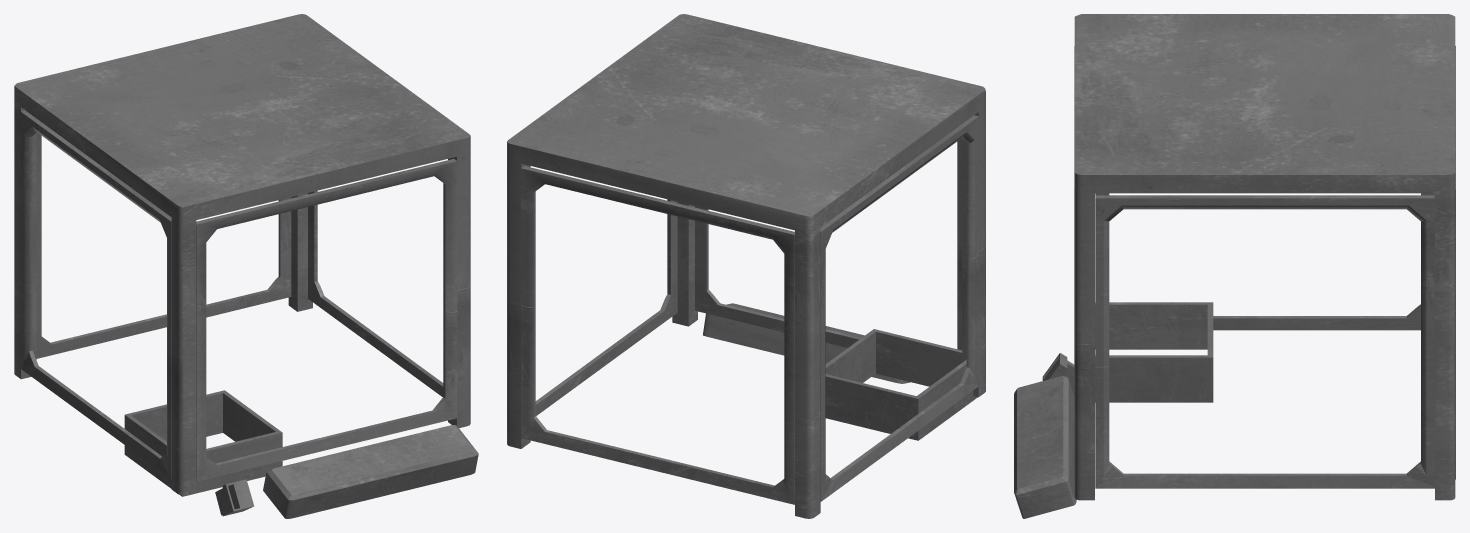
Rendered from ufo_frame.fbx.
3 views of the same model, side by side, from view 1: azimuth 30°, elevation 25°; view 2: azimuth 150°, elevation 25°; view 3: azimuth 270°, elevation 25° (orthographic). The views are drawn at different scales.
Parts seen in each view (by area): view 1: frame.040; view 2: frame.040; view 3: frame.040.
Part boxes in pixels (x1,y1,x2,y2): frame.040: (14,14,478,518); frame.040: (507,14,985,518); frame.040: (1014,14,1455,518).
Bounding box in the file's own units: 569 × 589 × 659.
